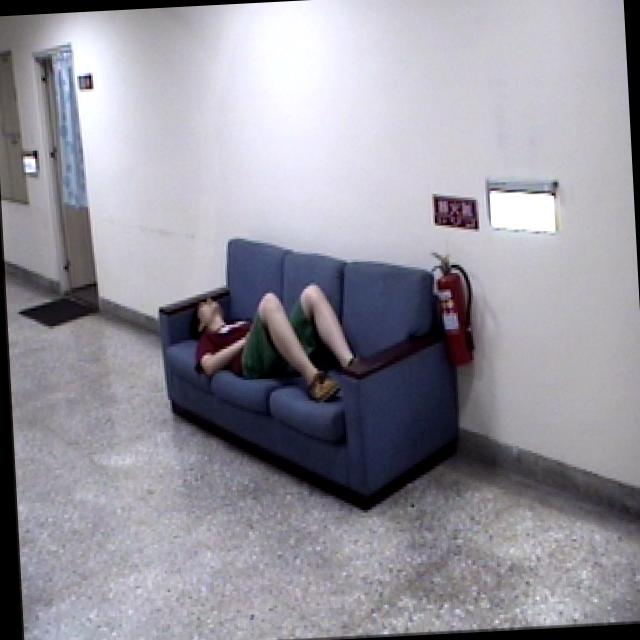lie: (184, 268, 373, 410)
